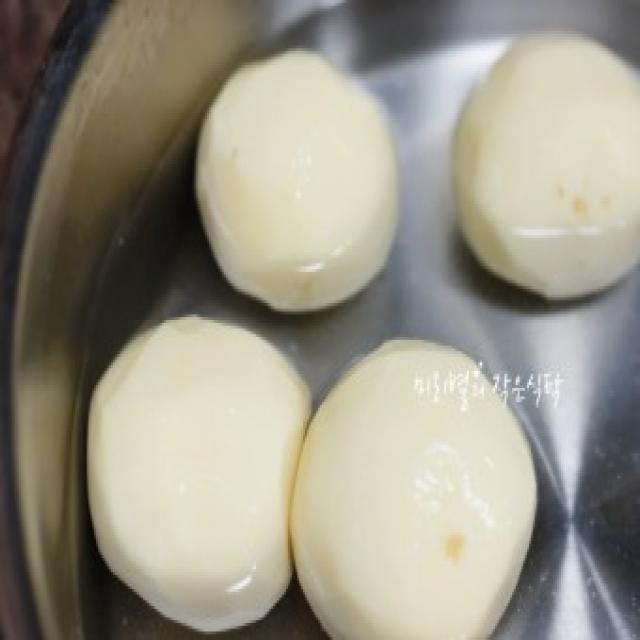potato: (290, 328, 537, 640), (86, 309, 312, 640), (197, 39, 406, 318), (450, 26, 640, 305)
